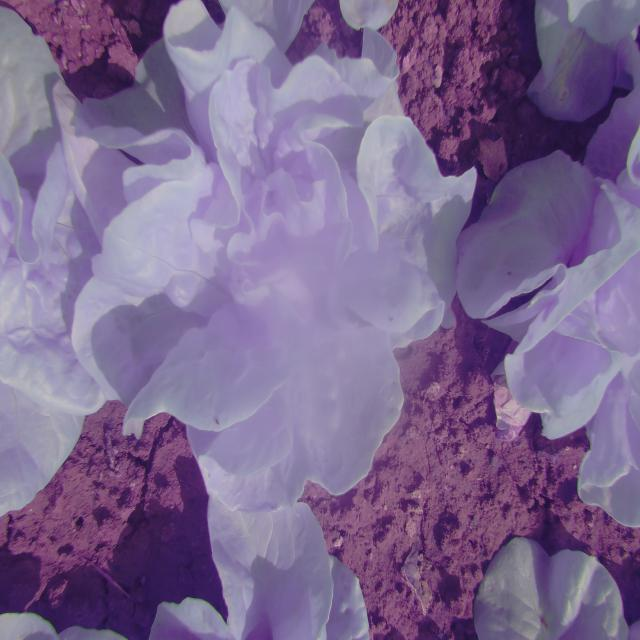vege: (59, 8, 463, 506)
